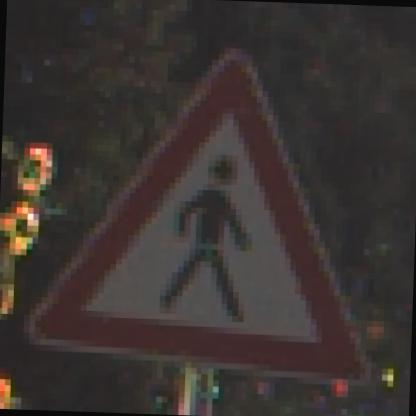crosswalk: (12, 41, 396, 402)
